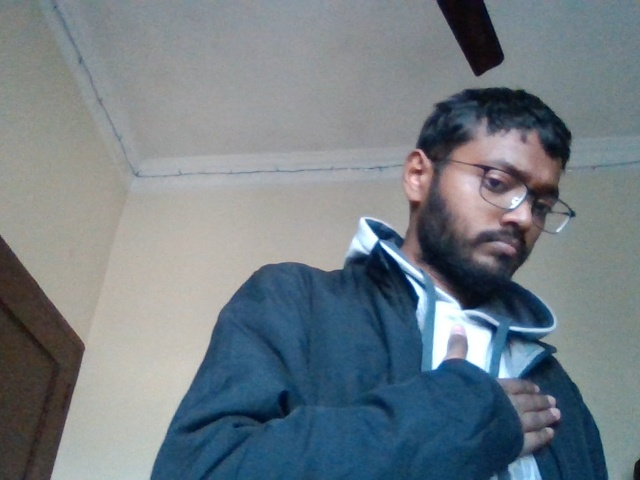please: (444, 326, 567, 453)
